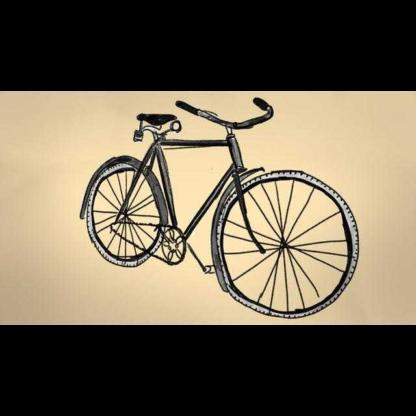Bicycle: (62, 91, 365, 319)
